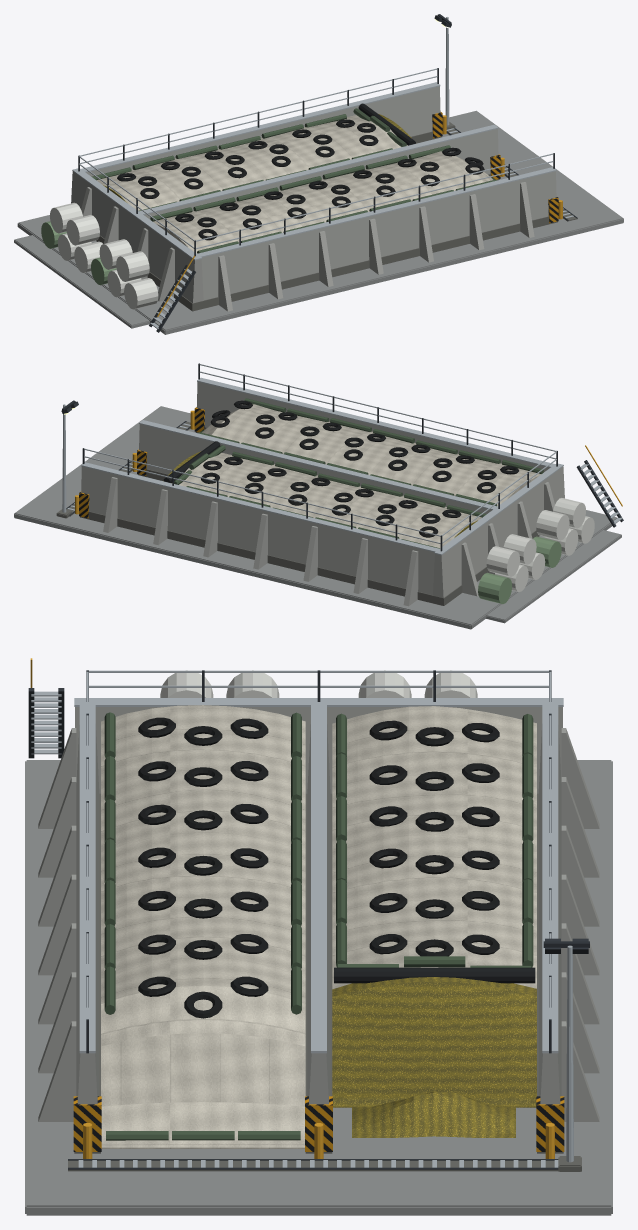
File: silage_bunker.glb
3 views of the same model, one above another, from view 1: azimuth 30°, elevation 25°; view 2: azimuth 150°, elevation 25°; view 3: azimuth 270°, elevation 25° (orthographic). The views are drawn at different scales.
Visible parts, largest first — view 1: Silage_BunkerWall, Silage_SilageTarpUV, Silage_BunkerApron, Silage_GalvRailGrate, Silage_ScrapTireRubber, Silage_WrappedBaleW, Silage_GravelSandbag, Silage_BunkerBaseStain, Silage_DarkSteel, Silage_HazardStripe, Silage_WrappedBaleG; view 2: Silage_BunkerWall, Silage_SilageTarpUV, Silage_BunkerApron, Silage_GalvRailGrate, Silage_ScrapTireRubber, Silage_GravelSandbag, Silage_WrappedBaleW, Silage_BunkerBaseStain, Silage_DarkSteel, Silage_WrappedBaleG, Silage_HazardStripe, Silage_SilageTarpBack (+1 smaller); view 3: Silage_SilageTarpUV, Silage_BunkerApron, Silage_BunkerWall, Silage_FermentedSilage, Silage_GalvRailGrate, Silage_ScrapTireRubber, Silage_GravelSandbag, Silage_BunkerBaseStain, Silage_DarkSteel, Silage_WrappedBaleW, Silage_HazardStripe, Silage_SilageTarpBack (+1 smaller).
Boxes of the visible parts, x1,y1,x2,y2 form: Silage_BunkerWall: (71, 86, 556, 311); Silage_SilageTarpUV: (96, 115, 492, 253); Silage_BunkerApron: (14, 110, 623, 334); Silage_GalvRailGrate: (72, 17, 573, 329); Silage_ScrapTireRubber: (117, 119, 484, 240); Silage_WrappedBaleW: (50, 202, 158, 309); Silage_GravelSandbag: (91, 108, 496, 253); Silage_BunkerBaseStain: (96, 122, 577, 311); Silage_DarkSteel: (78, 14, 577, 332); Silage_HazardStripe: (432, 112, 558, 223); Silage_WrappedBaleG: (41, 221, 116, 285); Silage_BunkerWall: (81, 381, 564, 606); Silage_SilageTarpUV: (179, 404, 541, 548); Silage_BunkerApron: (14, 406, 621, 629); Silage_GalvRailGrate: (62, 364, 622, 555); Silage_ScrapTireRubber: (201, 400, 518, 537); Silage_GravelSandbag: (174, 398, 543, 548); Silage_WrappedBaleW: (486, 498, 594, 591); Silage_BunkerBaseStain: (56, 421, 539, 605); Silage_DarkSteel: (61, 363, 623, 551); Silage_WrappedBaleG: (478, 536, 561, 604); Silage_HazardStripe: (79, 407, 204, 518); Silage_SilageTarpBack: (163, 441, 220, 482); Silage_SilageTarpUV: (101, 705, 536, 1148); Silage_BunkerApron: (25, 760, 612, 1215); Silage_BunkerWall: (38, 707, 599, 1121); Silage_FermentedSilage: (332, 977, 536, 1137); Silage_GalvRailGrate: (31, 670, 573, 1167); Silage_ScrapTireRubber: (138, 717, 499, 1018); Silage_GravelSandbag: (104, 712, 533, 1140); Silage_BunkerBaseStain: (68, 793, 581, 1171); Silage_DarkSteel: (28, 670, 589, 1169); Silage_WrappedBaleW: (160, 670, 477, 697); Silage_HazardStripe: (73, 1096, 564, 1151); Silage_SilageTarpBack: (334, 967, 535, 983).
Size of the model in its own units: 33.3 by 7.74 by 17.8.
15 materials, 3 textured.
